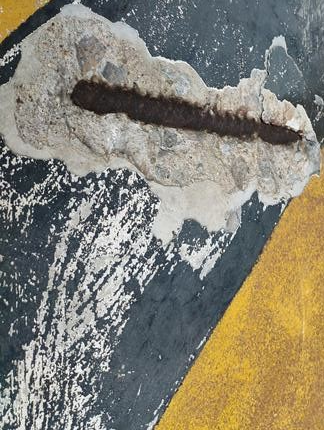Exposed reinforcement: (69, 79, 302, 146)
Spalling: (1, 1, 324, 249)
